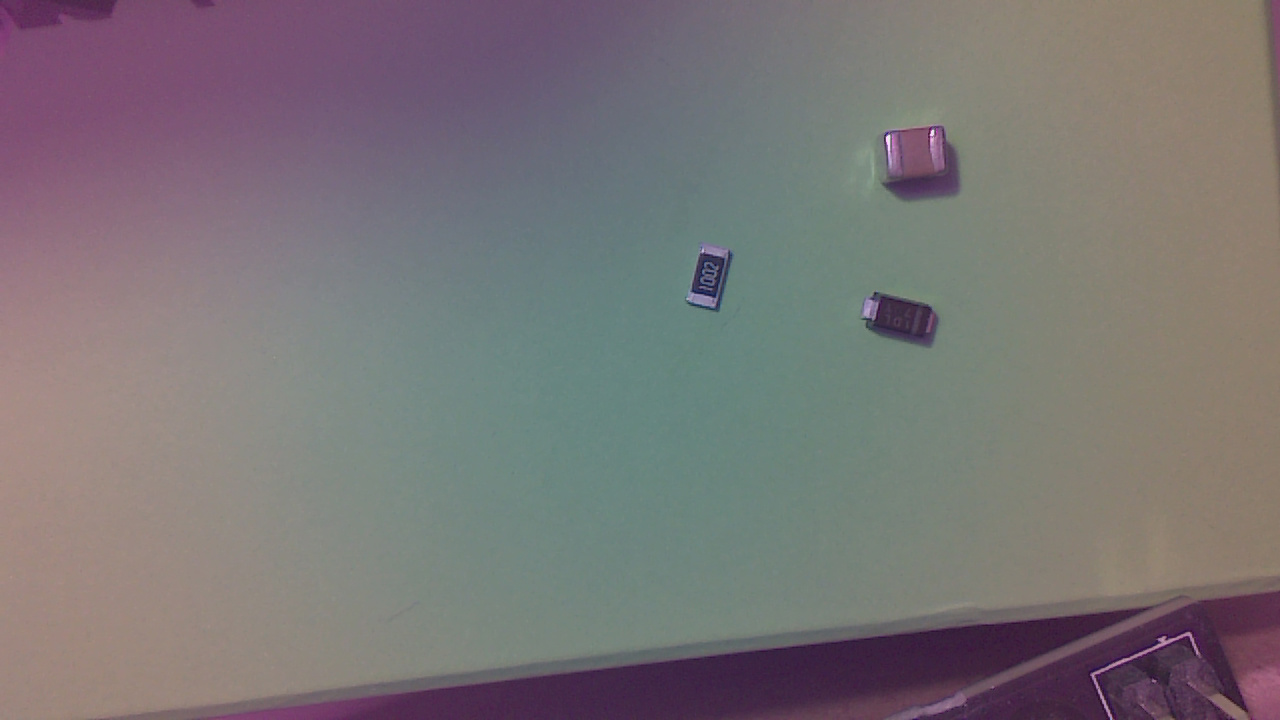Condensator: (883, 130, 952, 197)
Diode: (864, 295, 943, 348)
Resistor: (690, 251, 737, 315)
